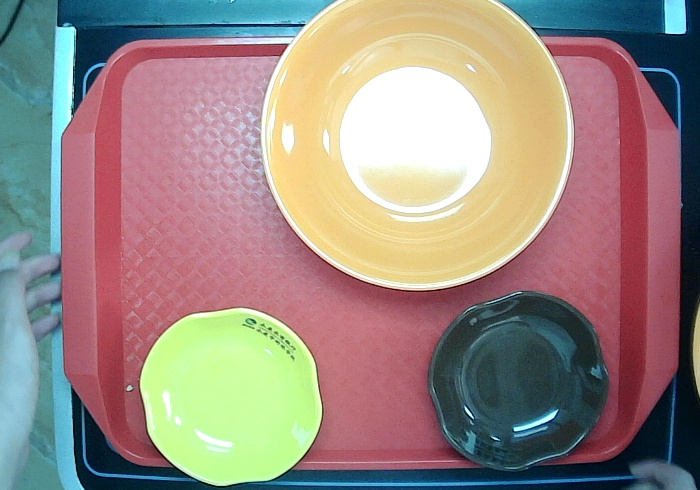YKMZ-Huang_Se_Ao_Bian_Wan: (132, 301, 325, 486)
YKMZ-Ju_Se_Tang_Wan: (258, 1, 576, 294)
YKMZ-Ka_Fei_Ao_Bian_Wan: (423, 287, 611, 472)
